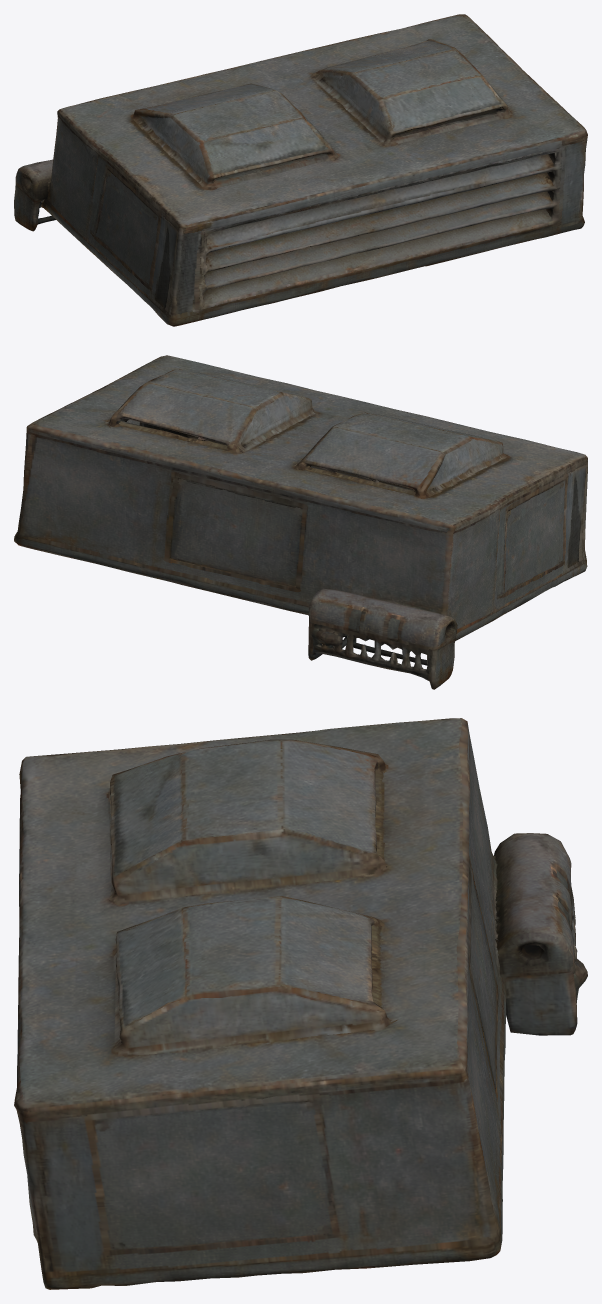
The model's file is shelter_roof_air_handler_candidate.glb.
3 renders of one model, top to bottom at view 1: azimuth 30°, elevation 25°; view 2: azimuth 150°, elevation 25°; view 3: azimuth 270°, elevation 25°, orthographic. The views are drawn at different scales.
Parts seen in each view (by area): view 1: shelter_roof_air_handler_candidate; view 2: shelter_roof_air_handler_candidate; view 3: shelter_roof_air_handler_candidate.
Part boxes in pixels (box(x1,y1,x2,y2)): shelter_roof_air_handler_candidate: box(14, 14, 587, 326); shelter_roof_air_handler_candidate: box(14, 355, 587, 689); shelter_roof_air_handler_candidate: box(14, 718, 587, 1289).
Size of the model in its own units: 6 by 2 by 4.
Materials: 1 (1 with a texture image).
